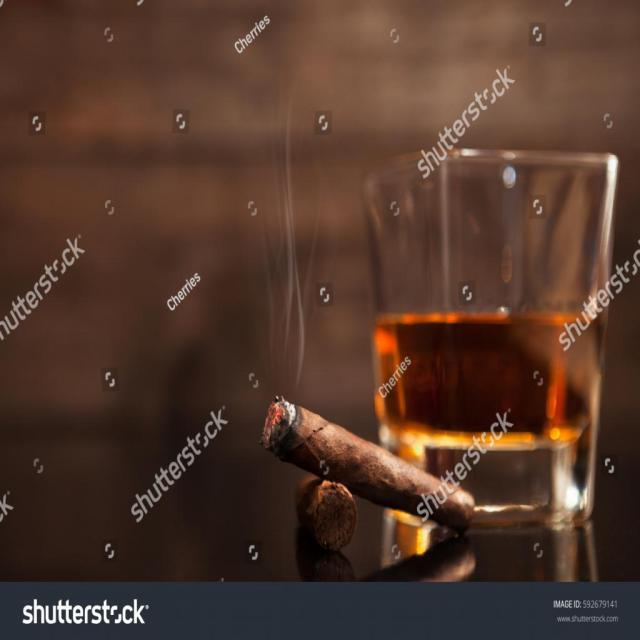smoking: (225, 395, 485, 603)
